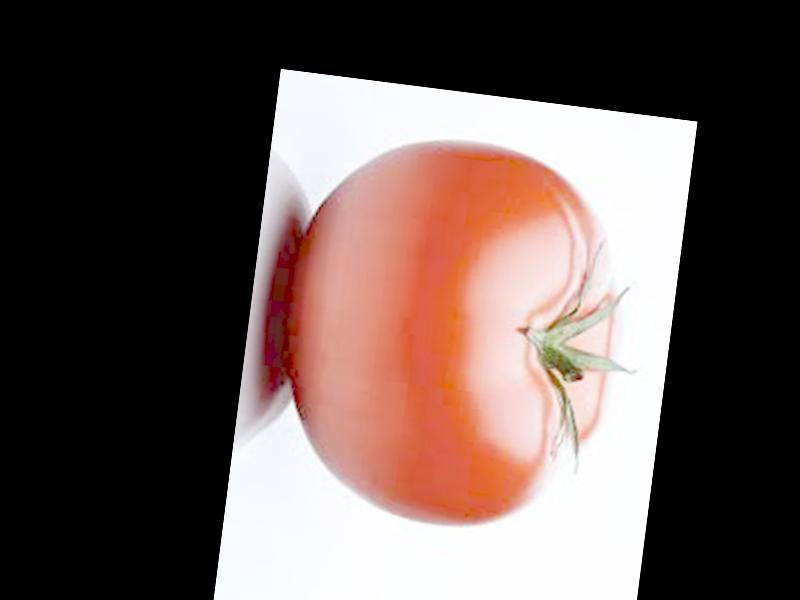Tomato: (269, 121, 639, 542)
